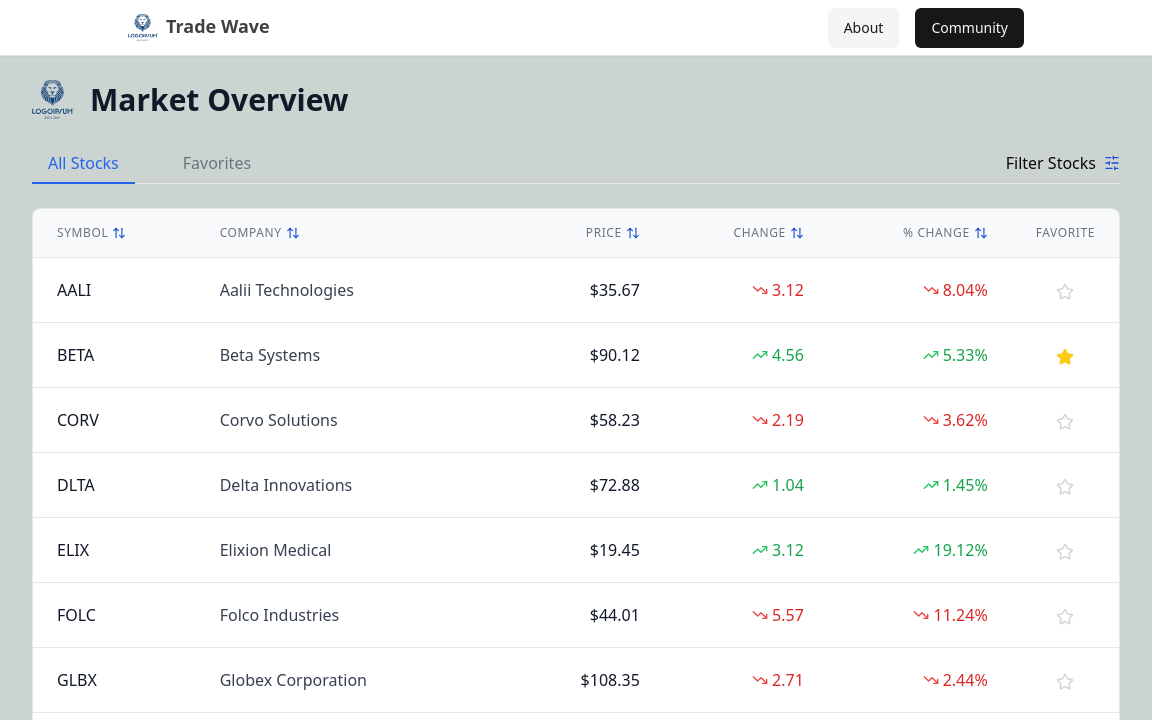
Stocks Screen › Filter button opens filter modal
Step 1. Click the element with test id "filter-button" → click(1063, 163), box [1006,151,1120,175]
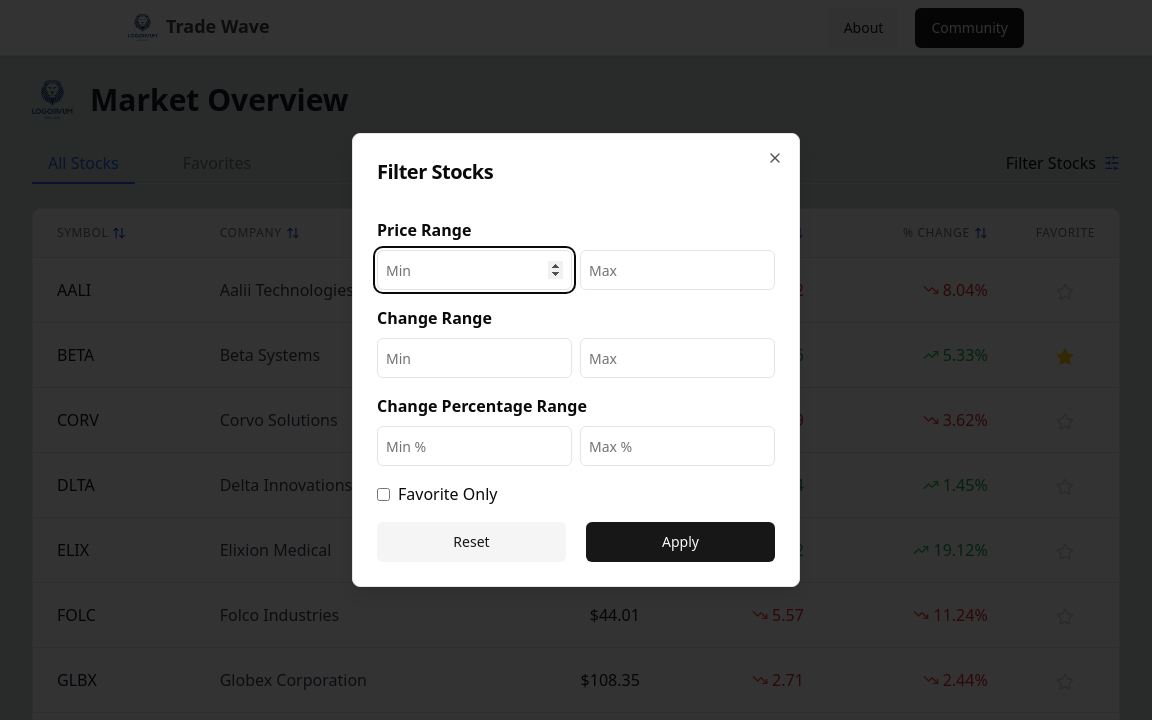
expect the dialog with test id "filter-modal" is shown: met, box [352,133,800,587]
